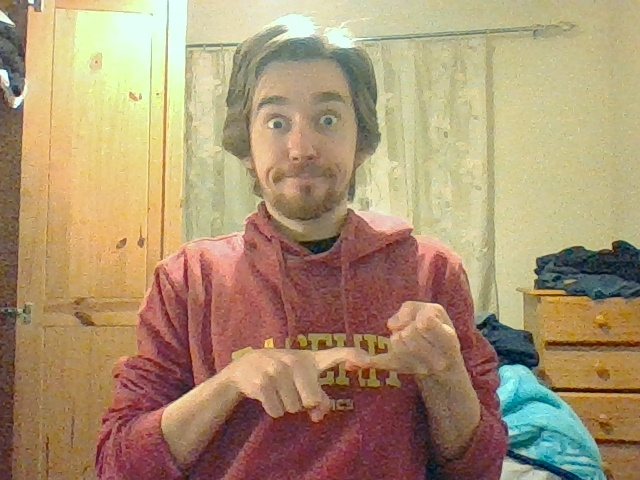step: (250, 300, 459, 422)
